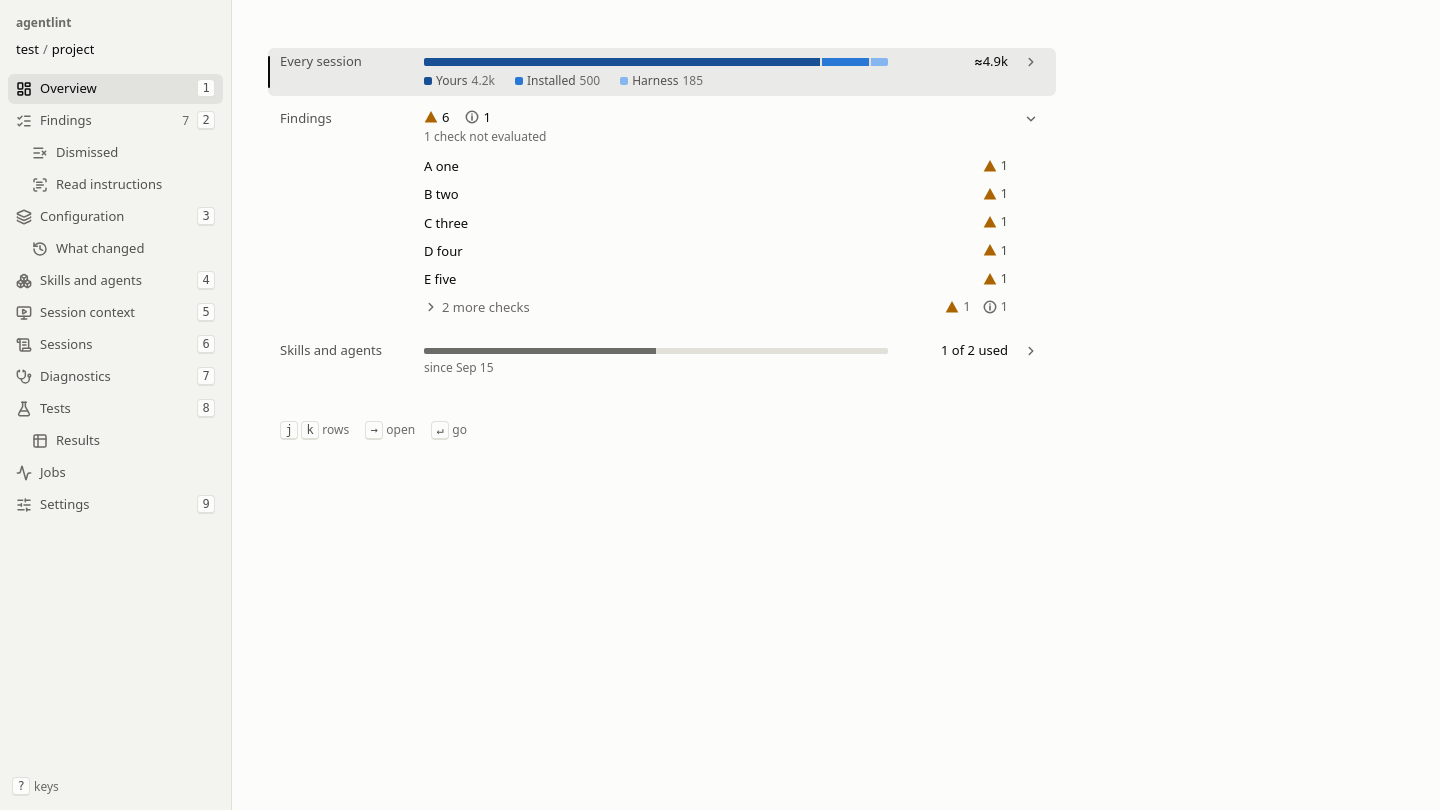
Test: the overview › shows the top five checks, then N more checks, which open in place
Step 1. Click the button named "2 more checks 1 warning 1 info" → (486, 307), box [416, 295, 1016, 321]
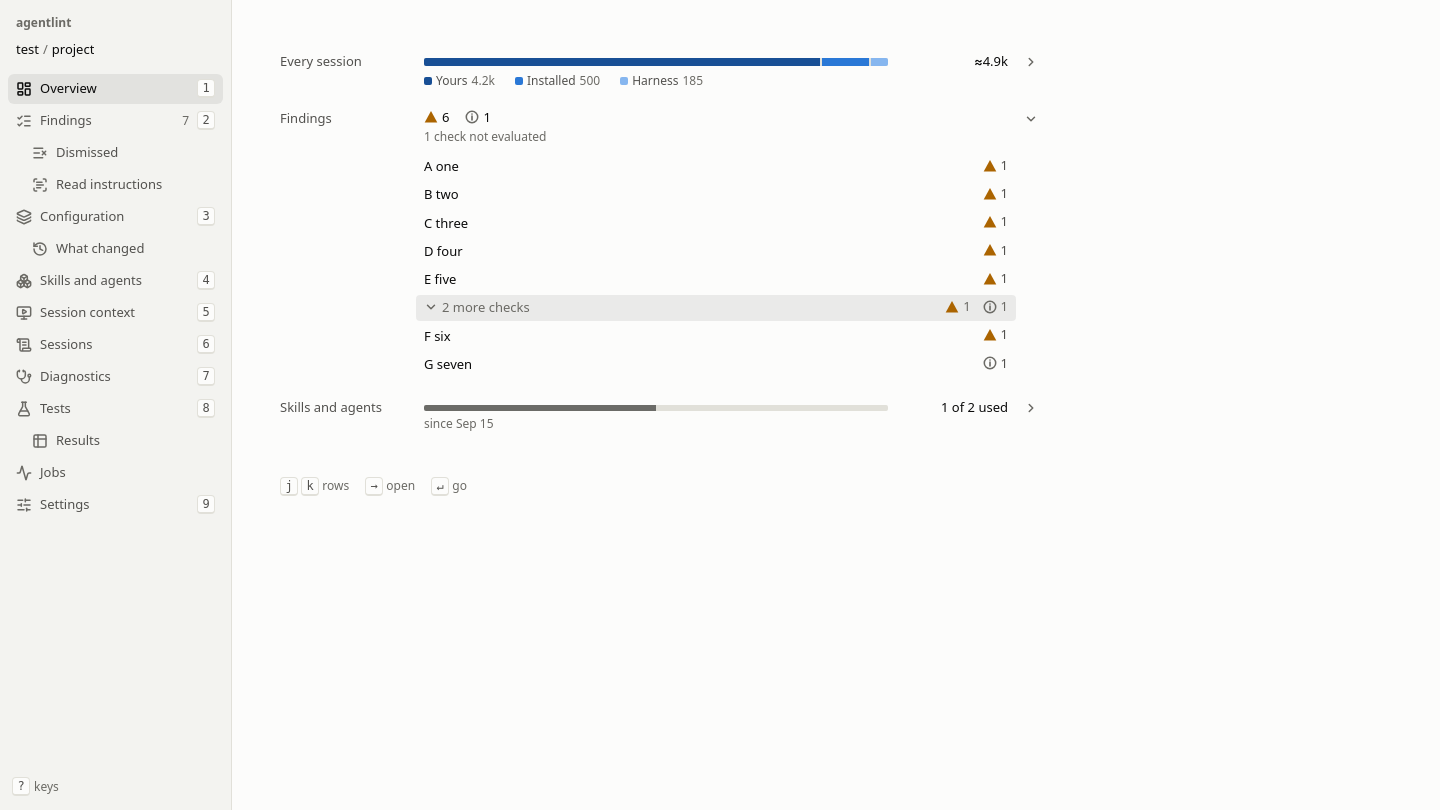
Now the button named "2 more checks 1 warning 1 info" is expanded, box [416, 295, 1016, 321]
